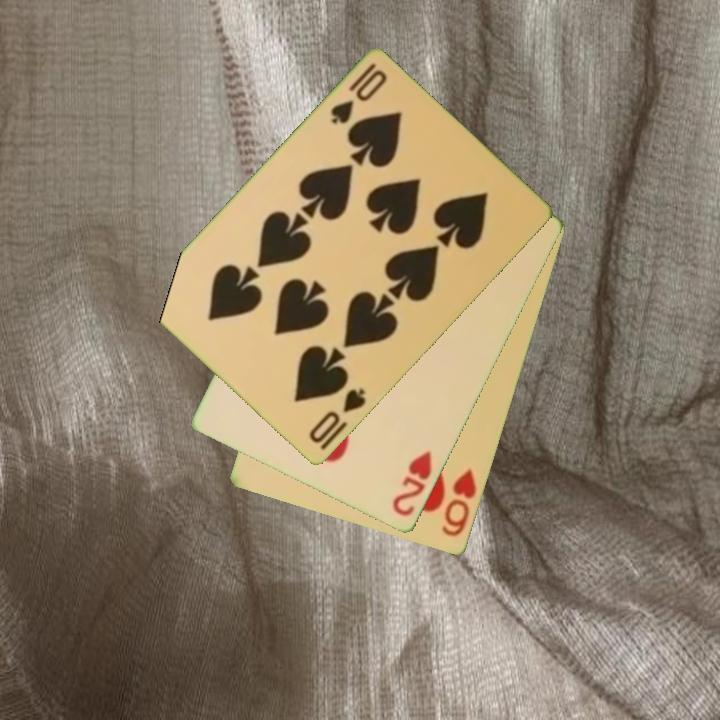10s: (327, 60, 391, 128), (305, 385, 369, 447)
2h: (389, 448, 436, 520)
6h: (439, 465, 480, 540)
